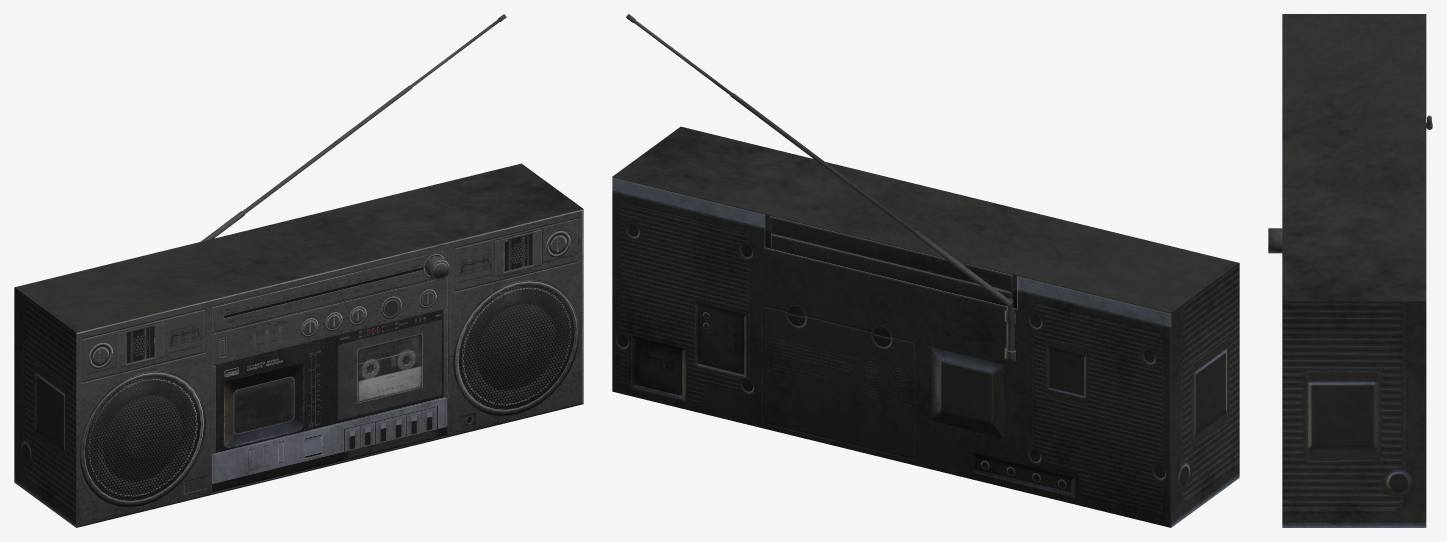
Rendered from cc0_free_low_poly_boombox.glb.
3 views of the same model, side by side, from view 1: azimuth 30°, elevation 25°; view 2: azimuth 150°, elevation 25°; view 3: azimuth 270°, elevation 25° (orthographic). The views are drawn at different scales.
Visible parts, largest first — view 1: Boombox; view 2: Boombox; view 3: Boombox.
Part boxes in pixels (x1=…): Boombox: x1=14, y1=14, x2=583, y2=527; Boombox: x1=612, y1=14, x2=1239, y2=527; Boombox: x1=1268, y1=14, x2=1432, y2=527.
Size of the model in its own units: 0.7207 by 0.4717 by 0.1745.
1 material, 1 textured.
